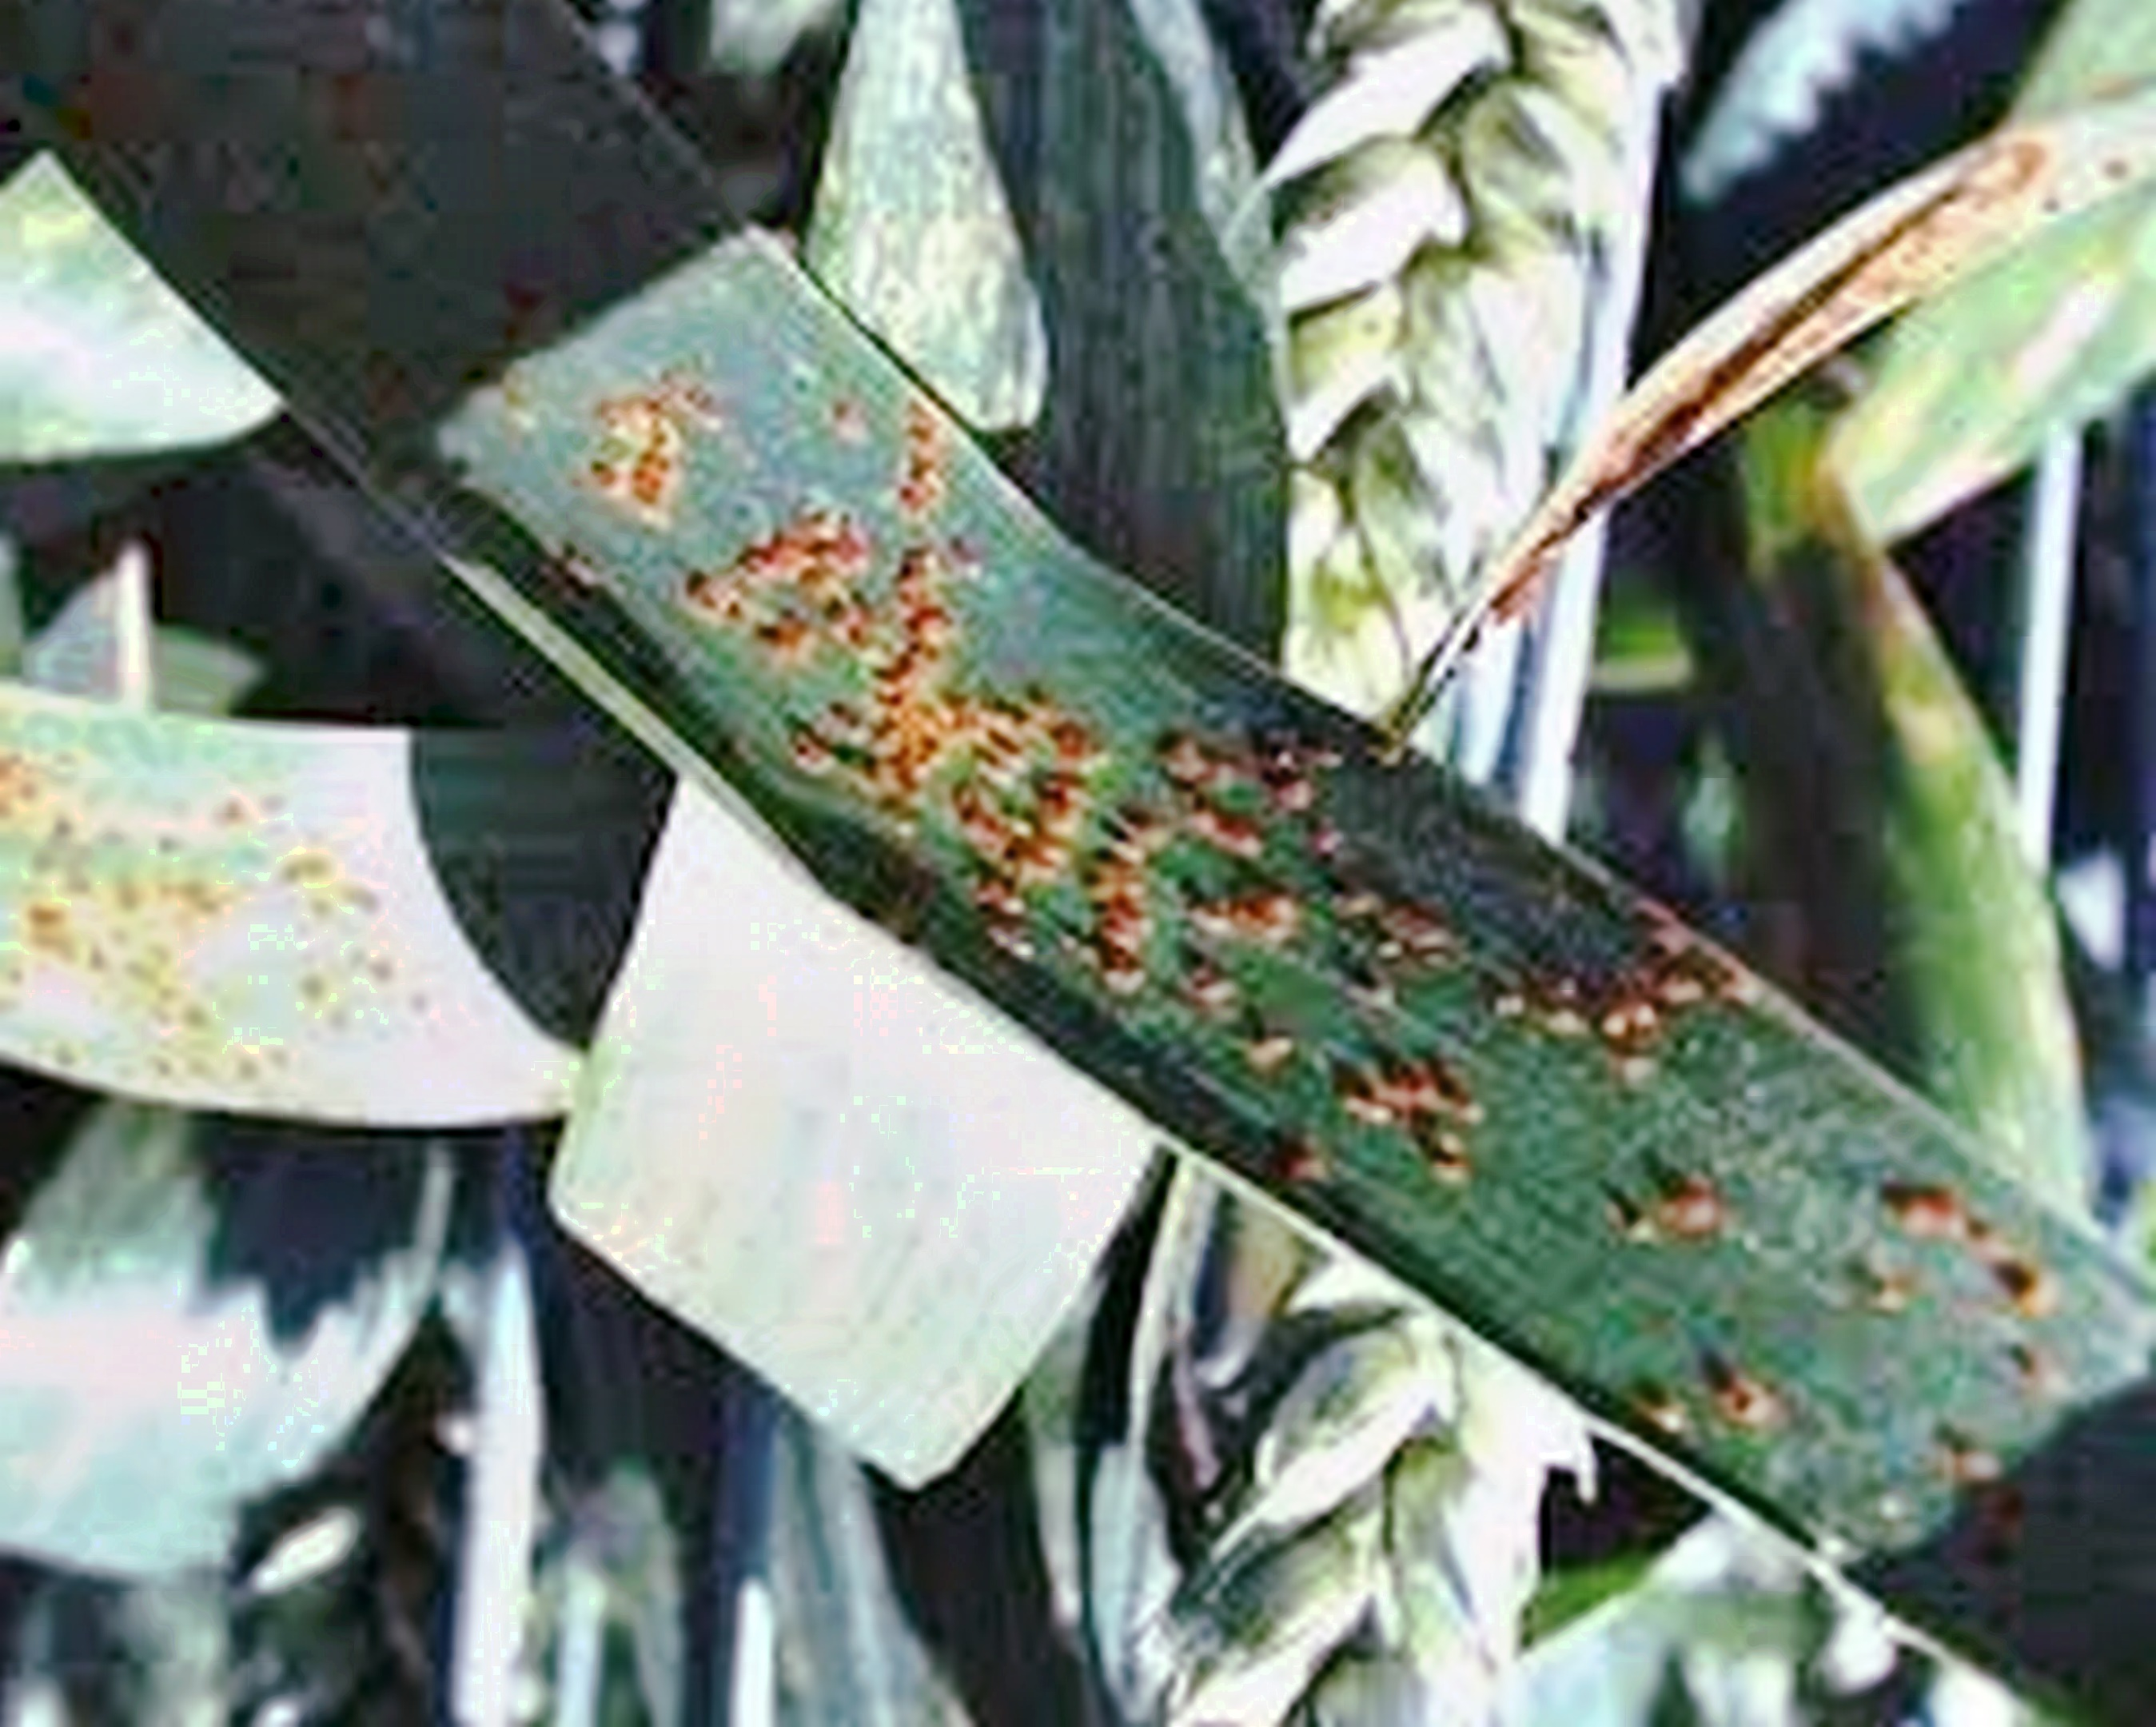Leaf Rust: (574, 395, 1860, 1443)
